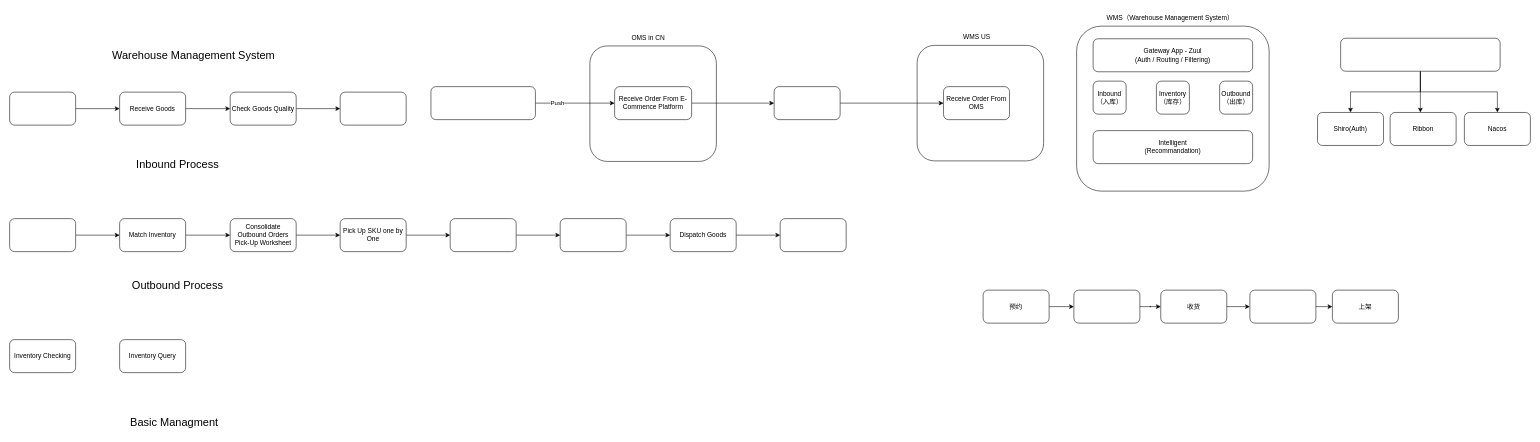
Image size: 1540x442. Some labels were removed from this diagram. The centre of each missing label's shape, as x and y in pixels:
"Ali Express / SHEIN" belongs at point (482, 103).
"Deliver to Customer" belongs at point (813, 235).
"Dispatch Service (HTTP)" belongs at point (807, 103).
"Gateway App (Auth / Routing / Filtering)" belongs at point (1420, 54).
"Package" belongs at point (593, 235).
"Re-sort the SKUs" belongs at point (483, 235).
"Receive Order From Upstream" belongs at point (42, 108).
"Receive Order From Upstream System (OMS)" belongs at point (42, 235).
"Shlef / Putaway" belongs at point (373, 108).
"到货" belongs at point (1106, 306).
"查验" belongs at point (1282, 306).
